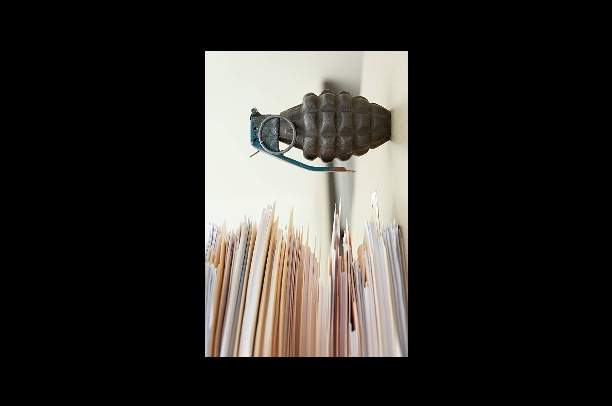e1: (248, 87, 394, 175)
